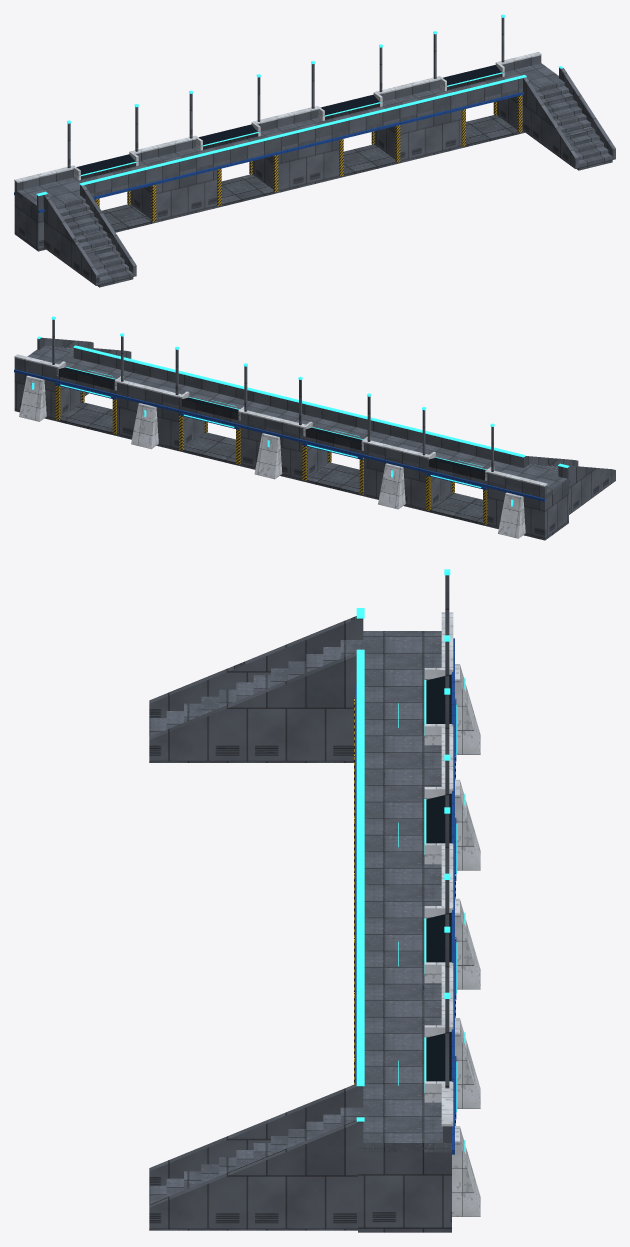
Rendered from env_rampart_w.glb.
The picture shows the model from 3 angles, top to bottom: view 1: azimuth 30°, elevation 25°; view 2: azimuth 150°, elevation 25°; view 3: azimuth 270°, elevation 25°; orthographic projection. The views are drawn at different scales.
Visible parts, largest first — view 1: env_rampart_w; view 2: env_rampart_w; view 3: env_rampart_w.
Part boxes in pixels (box(x1,y1,x2,y2)): env_rampart_w: box(14, 14, 615, 287); env_rampart_w: box(14, 316, 615, 540); env_rampart_w: box(149, 569, 480, 1232).
Bounding box in the file's own units: 46.5 × 8.55 × 12.7.
9 materials, 9 textured.
